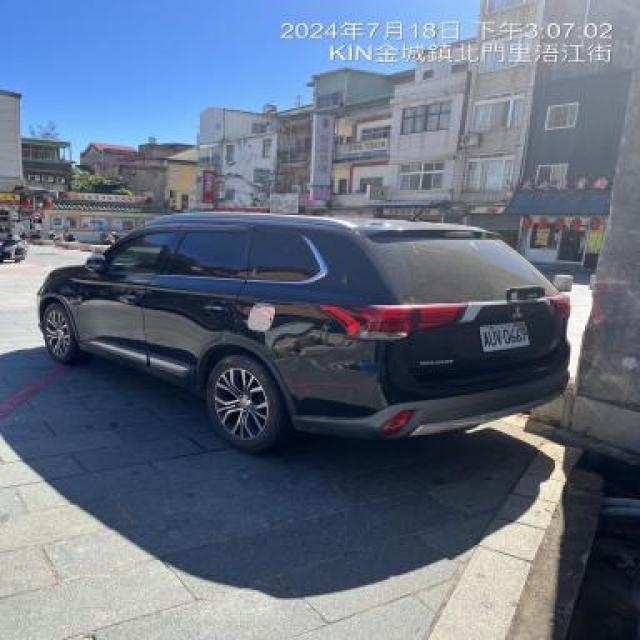illegalparking: (37, 212, 567, 452)
